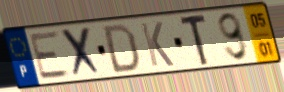9: (216, 10, 250, 63)
D: (102, 22, 141, 75)
E: (27, 29, 73, 82)
K: (138, 20, 176, 68)
T: (178, 12, 210, 68)
X: (58, 24, 105, 80)
